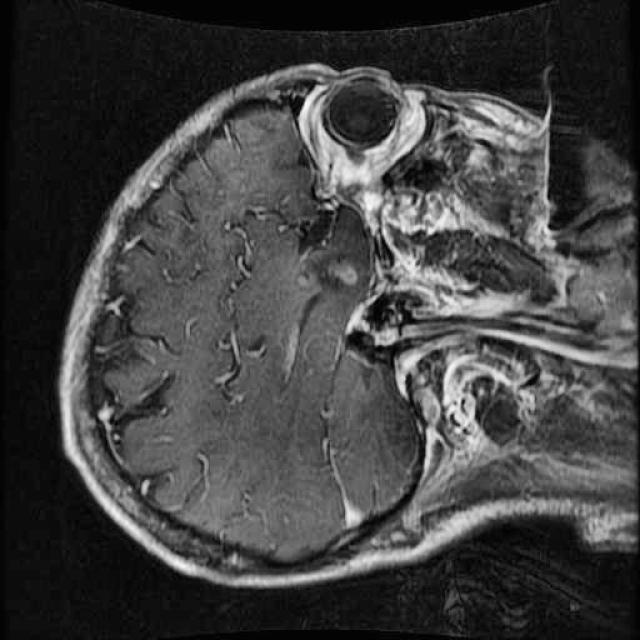Tumor: (298, 238, 372, 302)
